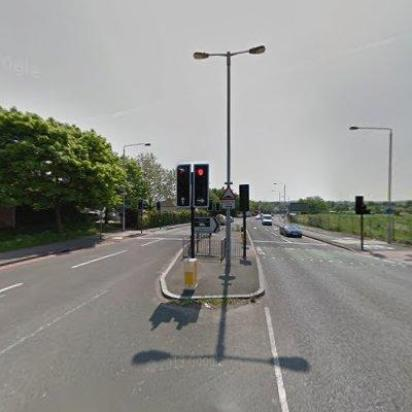moving-car: (280, 223, 302, 236), (256, 214, 261, 220), (230, 216, 234, 222)
moving-light-truck: (262, 214, 273, 226), (215, 215, 227, 225)
